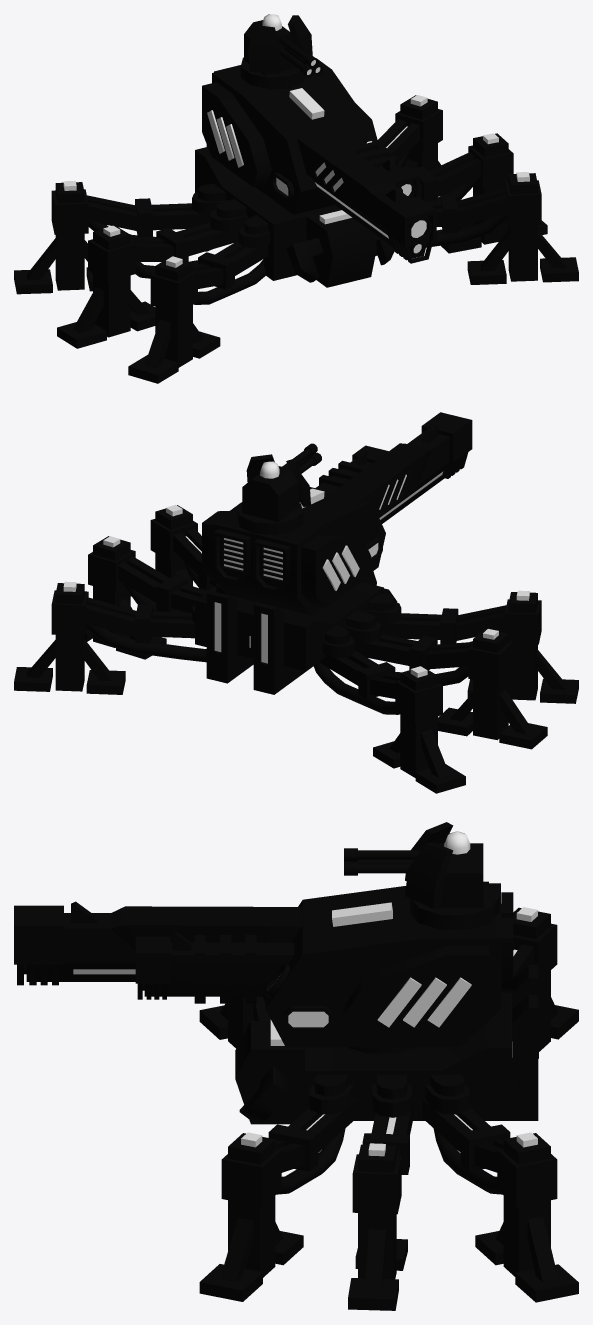
Rendered from БоссЛазер.fbx.
3 renders of one model, top to bottom at view 1: azimuth 30°, elevation 25°; view 2: azimuth 150°, elevation 25°; view 3: azimuth 270°, elevation 25°, orthographic. The views are drawn at different scales.
Parts seen in each view (by area): view 1: Куб.022, Куб.023, Куб.028, Куб.024, Куб.026, Куб.025, Цилиндр.009; view 2: Куб.022, Куб.023, Куб.028, Куб.024, Куб.026, Куб.025, Цилиндр.009; view 3: Куб.022, Куб.023, Куб.028, Куб.024, Куб.026, Цилиндр.009, Куб.025.
Boxes of the visible parts, box(x1,y1,x2,y2) form: Куб.022: box(14, 95, 578, 383); Куб.023: box(212, 65, 436, 263); Куб.028: box(202, 58, 354, 186); Куб.024: box(244, 15, 322, 77); Куб.026: box(207, 88, 426, 253); Куб.025: box(63, 95, 529, 267); Цилиндр.009: box(240, 57, 305, 89); Куб.022: box(14, 505, 578, 793); Куб.023: box(212, 412, 472, 615); Куб.028: box(202, 511, 371, 607); Куб.024: box(242, 443, 321, 521); Куб.026: box(224, 471, 443, 590); Куб.025: box(63, 504, 529, 677); Цилиндр.009: box(237, 503, 303, 535); Куб.022: box(199, 907, 578, 1310); Куб.023: box(14, 883, 513, 1047); Куб.028: box(342, 881, 488, 1040); Куб.024: box(344, 822, 483, 908); Куб.026: box(73, 902, 471, 1027); Цилиндр.009: box(410, 883, 499, 929); Куб.025: box(241, 907, 537, 1156).
Size of the model in its own units: 857 by 425 by 667.
